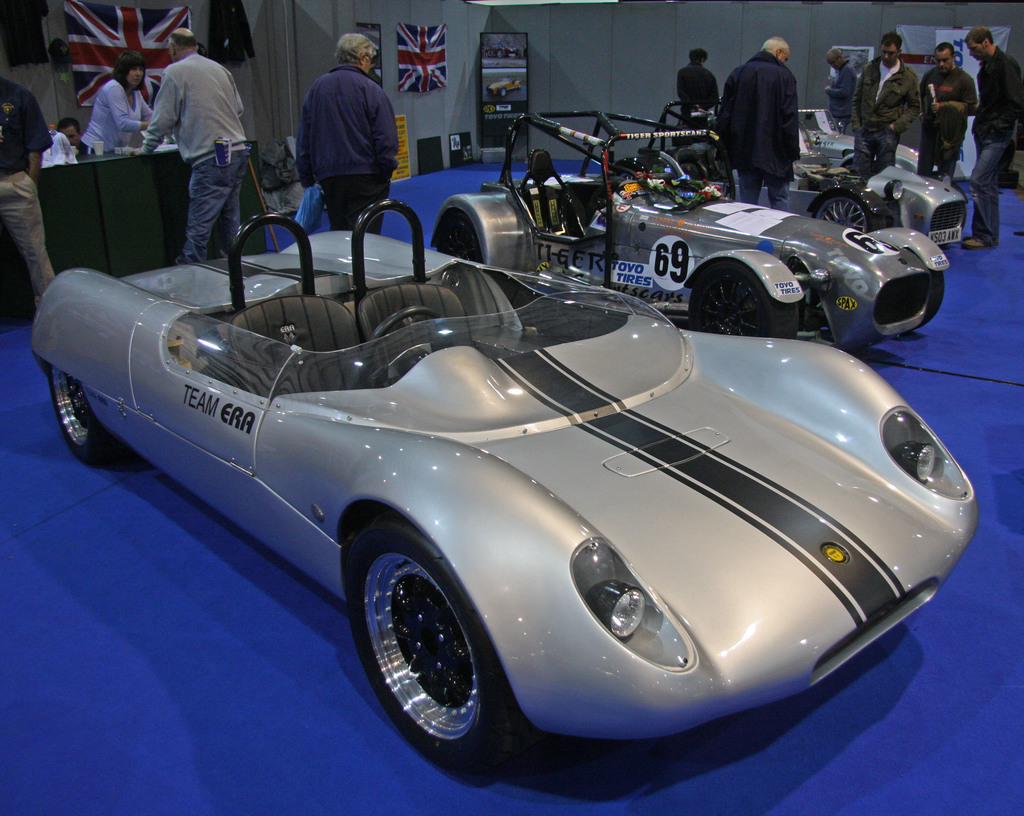Wheel: (353, 534, 496, 760), (688, 261, 799, 347), (49, 365, 137, 468), (812, 195, 887, 235), (436, 207, 486, 263)
